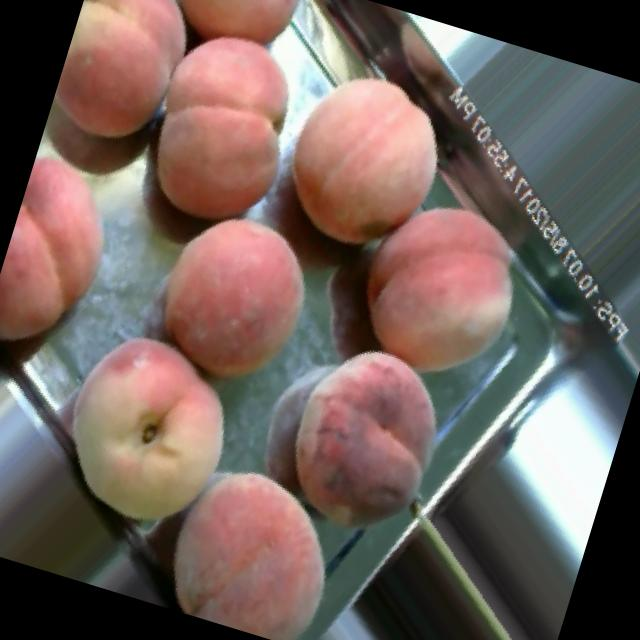Fruit: (11, 292, 280, 574), (239, 311, 485, 577), (316, 166, 554, 414), (118, 0, 335, 258), (254, 39, 482, 284), (125, 424, 382, 640), (119, 184, 346, 423), (0, 134, 150, 384), (40, 0, 211, 173), (123, 0, 325, 91)
